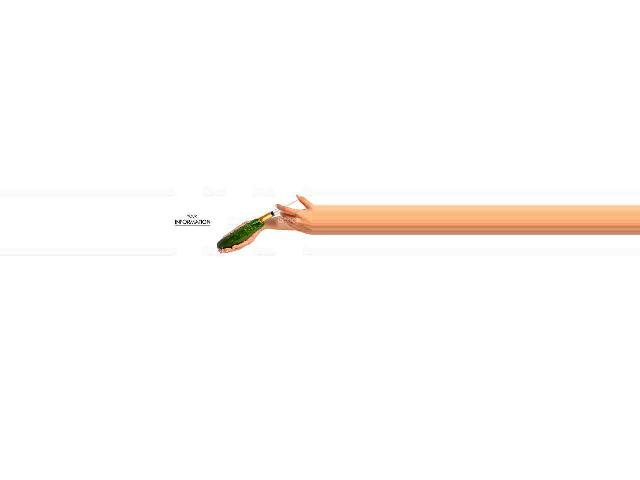cucumber: (217, 218, 264, 249)
